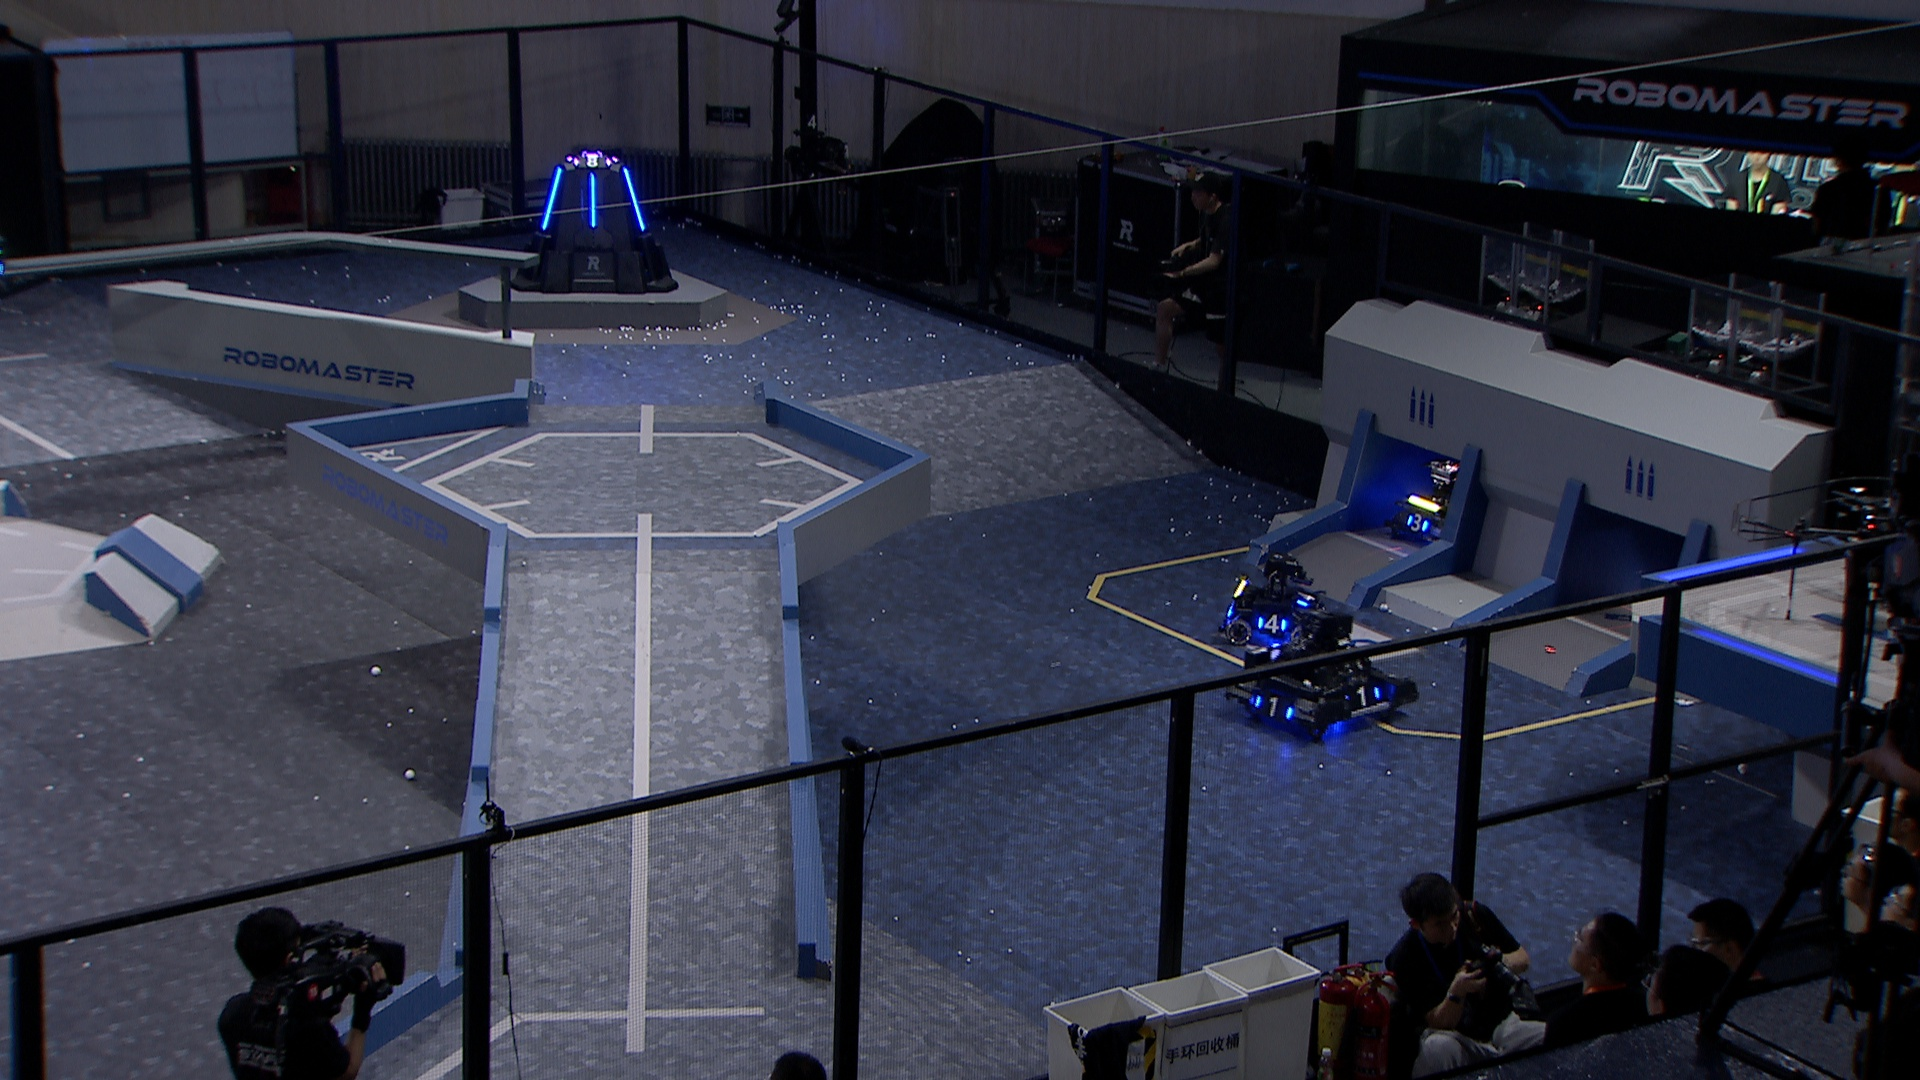armor: (621, 166, 647, 233), (537, 166, 562, 233), (1251, 695, 1294, 721), (1346, 684, 1385, 707), (1404, 512, 1432, 535), (1254, 616, 1287, 636), (588, 171, 597, 229), (1292, 588, 1316, 608)
base: (506, 149, 680, 295)
car: (1221, 599, 1415, 738), (1216, 546, 1337, 647), (1387, 458, 1481, 545)
ignore: (571, 153, 615, 171)
